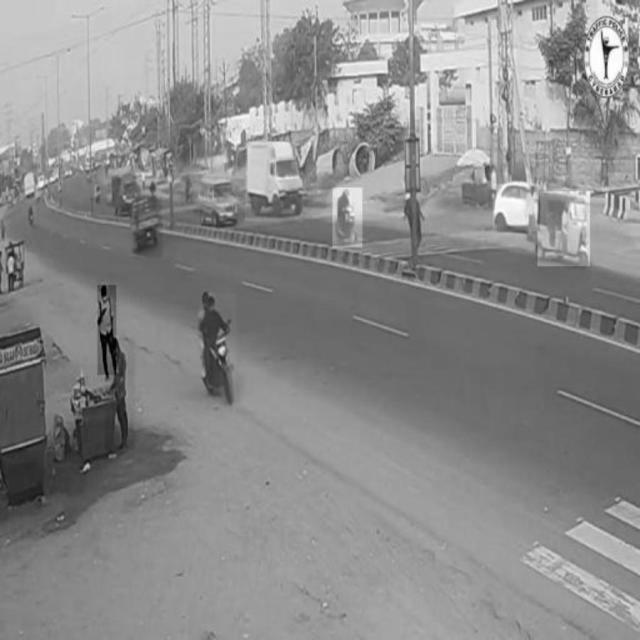person: (105, 338, 135, 450), (97, 285, 115, 375)
vehicle: (246, 142, 303, 222), (202, 293, 237, 407), (538, 192, 590, 266), (493, 184, 540, 231), (196, 177, 236, 224), (333, 188, 363, 248), (134, 197, 162, 258)
